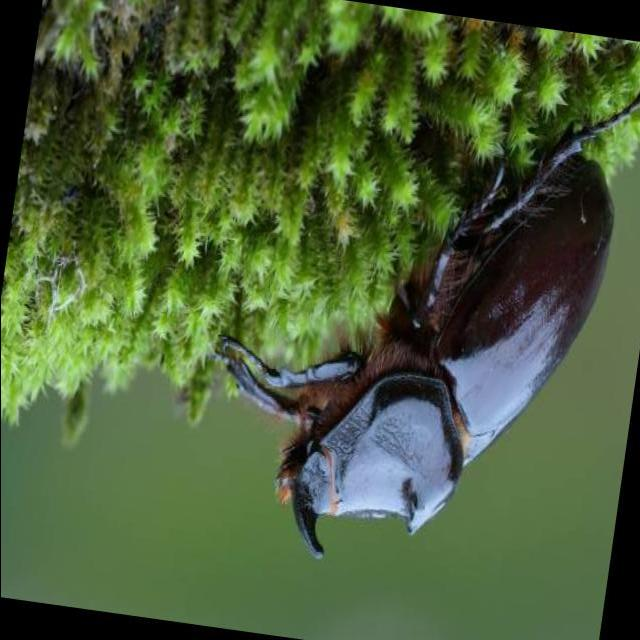Rhino-beetle: (225, 87, 626, 599)
